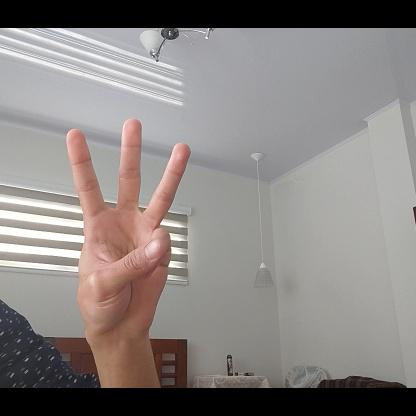W: (63, 117, 192, 349)
